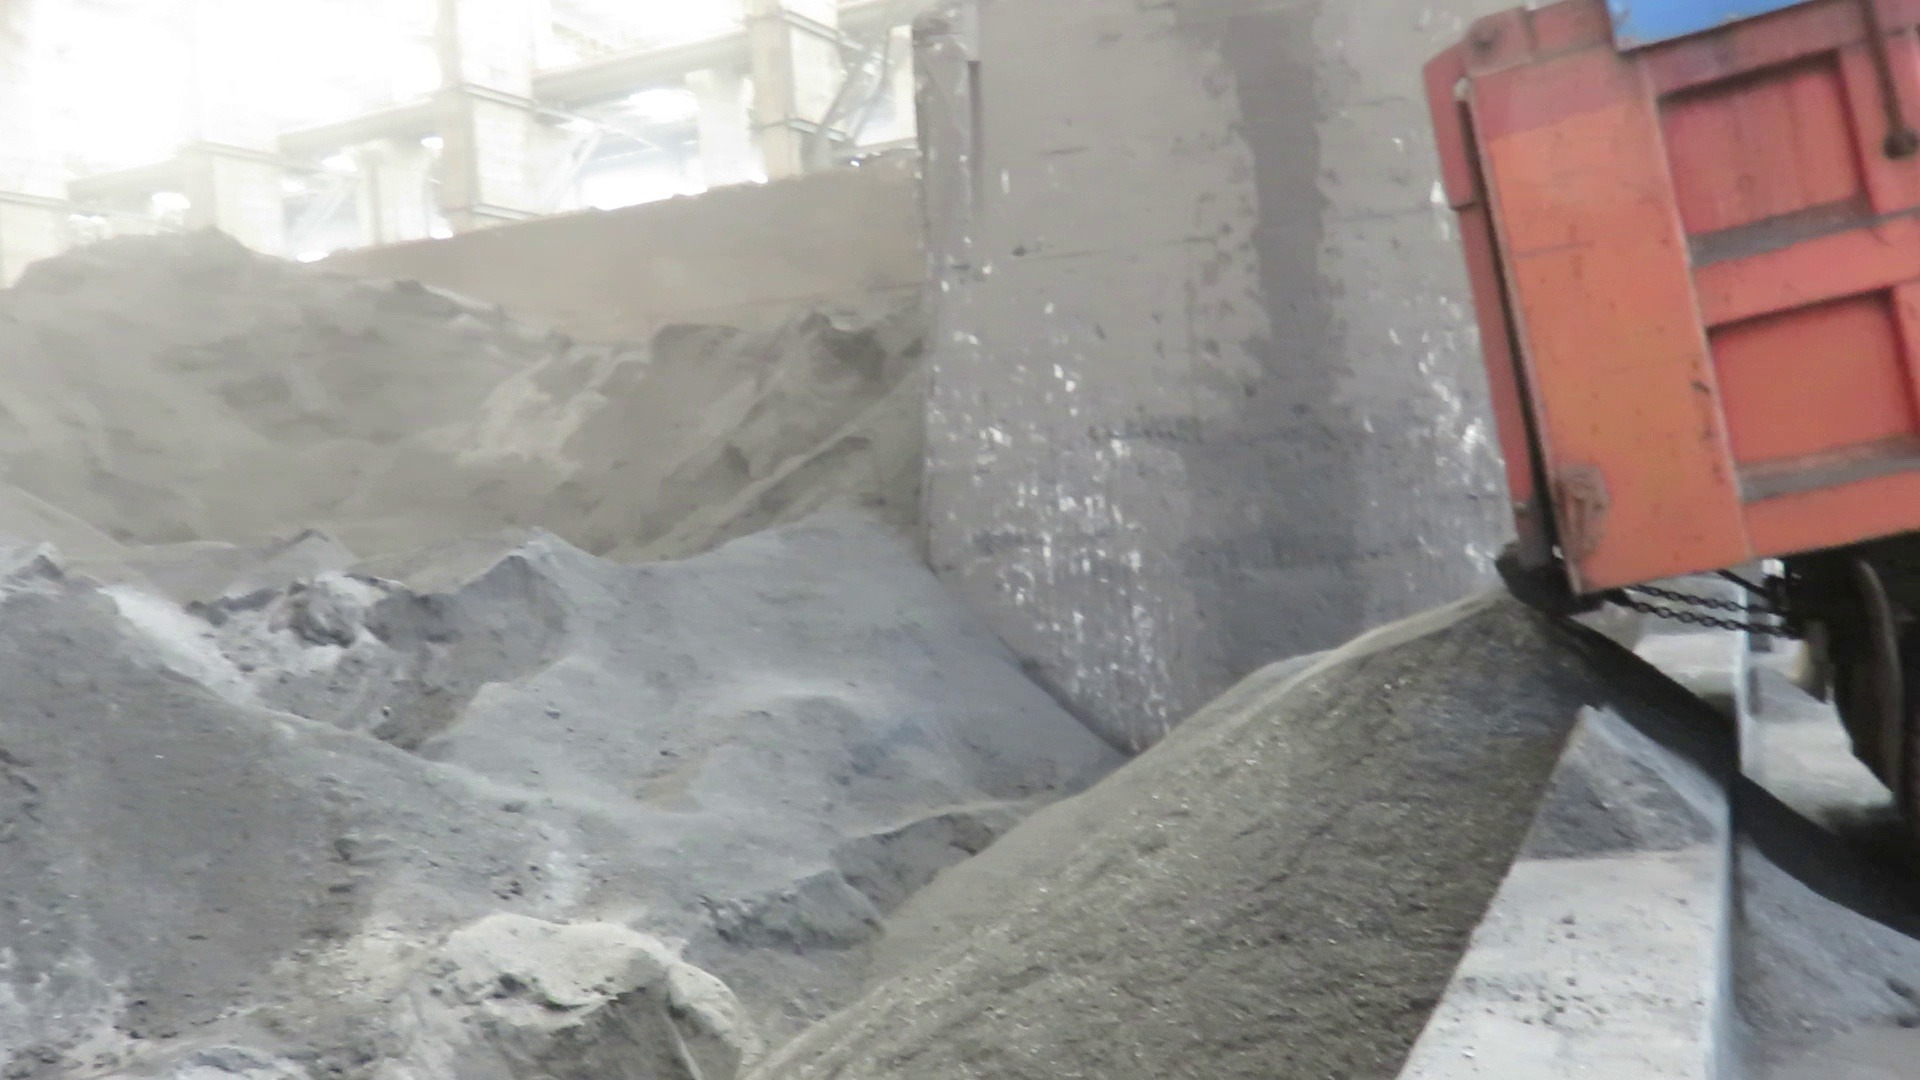truck: (1408, 0, 1919, 884)
